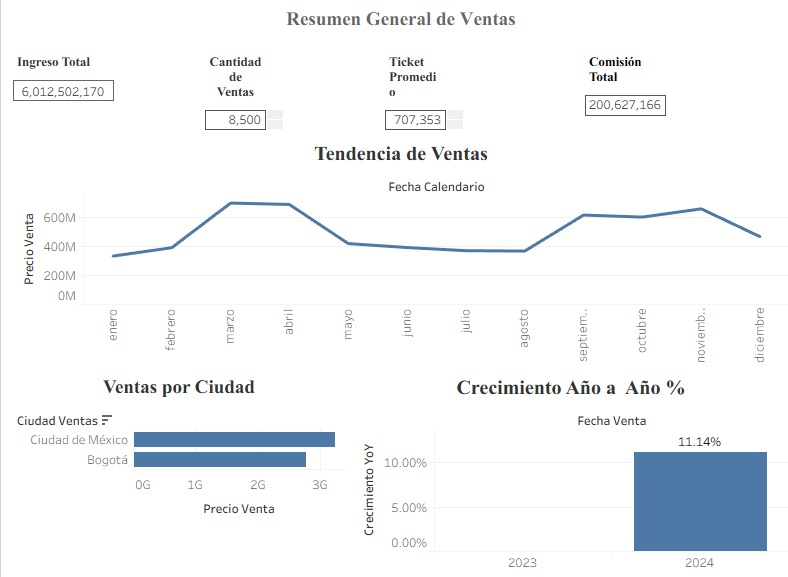

What the dashboard file says about the page in this screenshot:
{"tool":"tableau","page":{"name":"Dashboard Ejecutivo","canvas":[1000,1000],"units":"permille","ordinal":2},"visuals":[{"type":"text","box":[10,13.3,980,90.8]},{"type":"worksheet","title":"hoja 1","mark":"Text","box":[10,104.2,240,145.8]},{"type":"worksheet","title":"hoja 2","mark":"Text","box":[250,104.2,225,145.8]},{"type":"worksheet","title":"hoja 3","mark":"Text","box":[475,104.2,250,145.8]},{"type":"worksheet","title":"Hoja 4","mark":"Text","box":[725,104.2,265,123.3]},{"type":"worksheet","title":"Tendencia de Ventas","mark":"Automatic","rows":["precio_venta"],"cols":["Fecha Venta"],"box":[10,250,980,390]},{"type":"worksheet","title":"Ventas por Ciudad","mark":"Automatic","rows":["ciudad (hecho_ventas_propiedades.csv)"],"cols":["precio_venta"],"box":[10,640,425.6,346.7]},{"type":"worksheet","title":"Crecimiento Año  a Año %","mark":"Bar","rows":["Calculation_0064906564980751"],"cols":["fecha_venta"],"box":[435.6,640,554.4,346.7]}]}

Visuals, with their boxes on the dashboard's canvas, which has no fixed pixel size, in thousandths of its width and height (x1, y1, x2, y2). These are canvas units, not pixel positions in the 788x577 screenshot, which may show the page scaled, cropped or inside an application window:
text: [10,13,990,104]
"hoja 1" worksheet (Text marks): [10,104,250,250]
"hoja 2" worksheet (Text marks): [250,104,475,250]
"hoja 3" worksheet (Text marks): [475,104,725,250]
"Hoja 4" worksheet (Text marks): [725,104,990,228]
"Tendencia de Ventas" worksheet: [10,250,990,640]
"Ventas por Ciudad" worksheet: [10,640,436,987]
"Crecimiento Año  a Año %" worksheet (Bar marks): [436,640,990,987]
